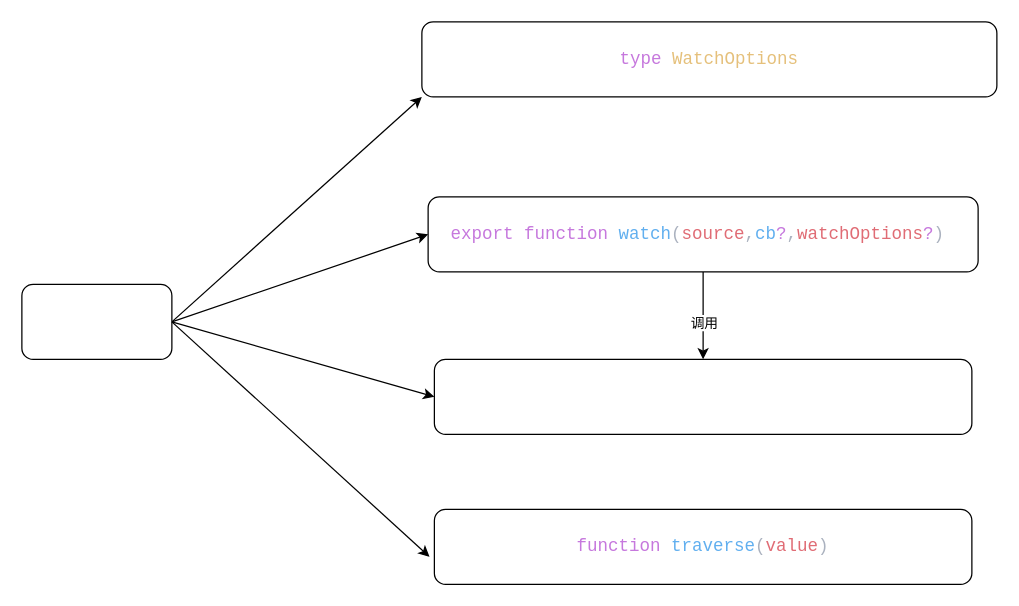
Image size: 1019x606. Some labels were removed from this diagram. Here are the shapes that lost their labels. From the top down, the box of each, then its label:
(21, 283, 172, 359): apiWatch.ts
(433, 358, 972, 434): function doWatch ( source , cb ? , watchOptions ? )
